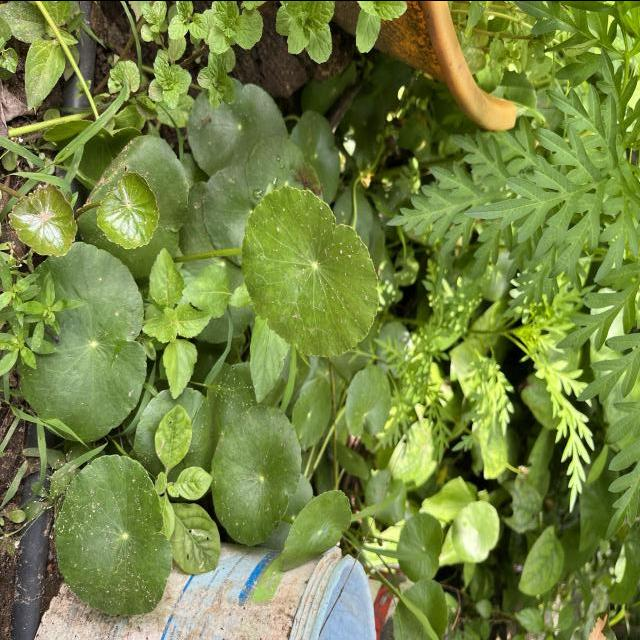Bacopa monnieri: (13, 238, 148, 444), (238, 183, 380, 358), (52, 451, 174, 616), (208, 402, 304, 546), (279, 488, 354, 572), (5, 180, 80, 258), (95, 168, 162, 250)
